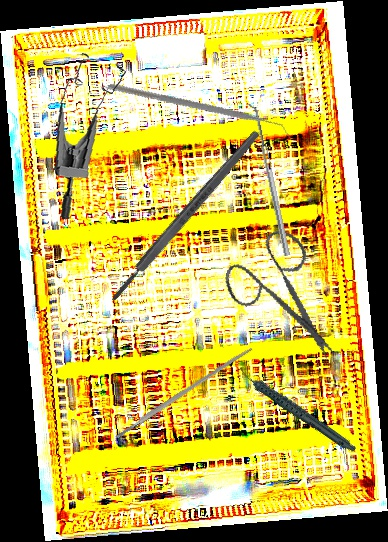Chopper: (106, 34, 292, 190)
Handpiece: (237, 345, 357, 473)
Iris Scissors: (211, 220, 364, 362)
Scalpel Handle: (107, 127, 264, 305), (113, 345, 254, 440)
Spatula Surgical: (245, 102, 291, 258)
Speculum: (41, 49, 142, 220)
